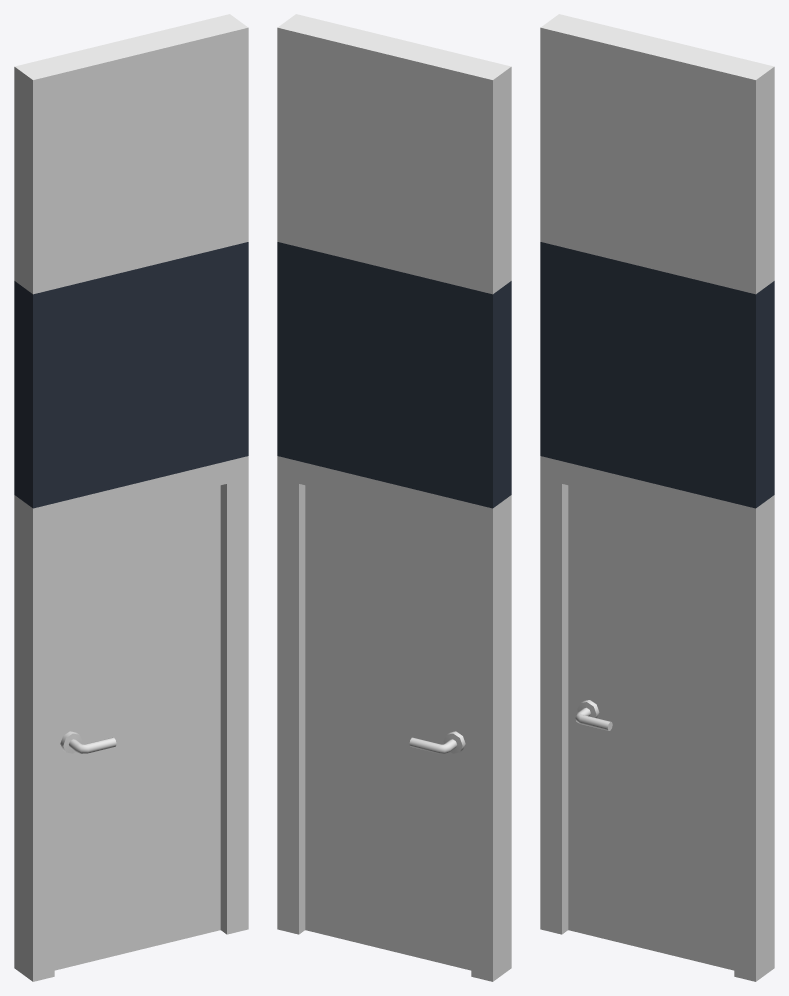
Rendered from SM_OfficeSingleDoorAvg.fbx.
The picture shows the model from 3 angles, left to right: view 1: azimuth 30°, elevation 25°; view 2: azimuth 150°, elevation 25°; view 3: azimuth 330°, elevation 25°; orthographic projection.
Visible parts, largest first — view 1: SM_SingleDoorAvg; view 2: SM_SingleDoorAvg; view 3: SM_SingleDoorAvg.
Part boxes in pixels (box(x1,y1,x2,y2)): SM_SingleDoorAvg: box(14, 14, 248, 981); SM_SingleDoorAvg: box(277, 14, 511, 981); SM_SingleDoorAvg: box(540, 14, 774, 981).
Size of the model in its own units: 100 by 400 by 28.
